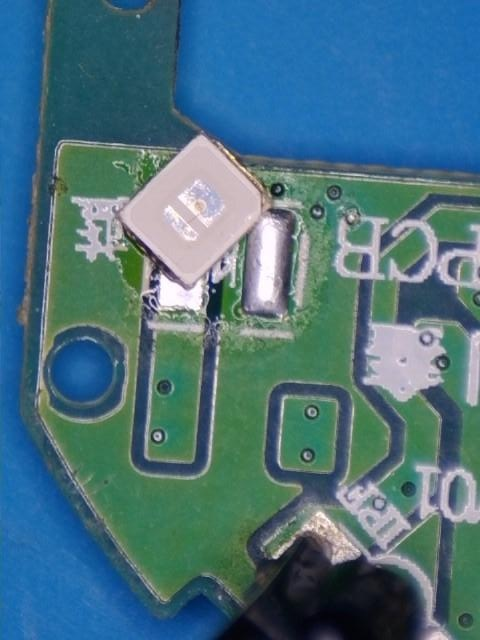pcb_defect: (114, 130, 294, 316)
